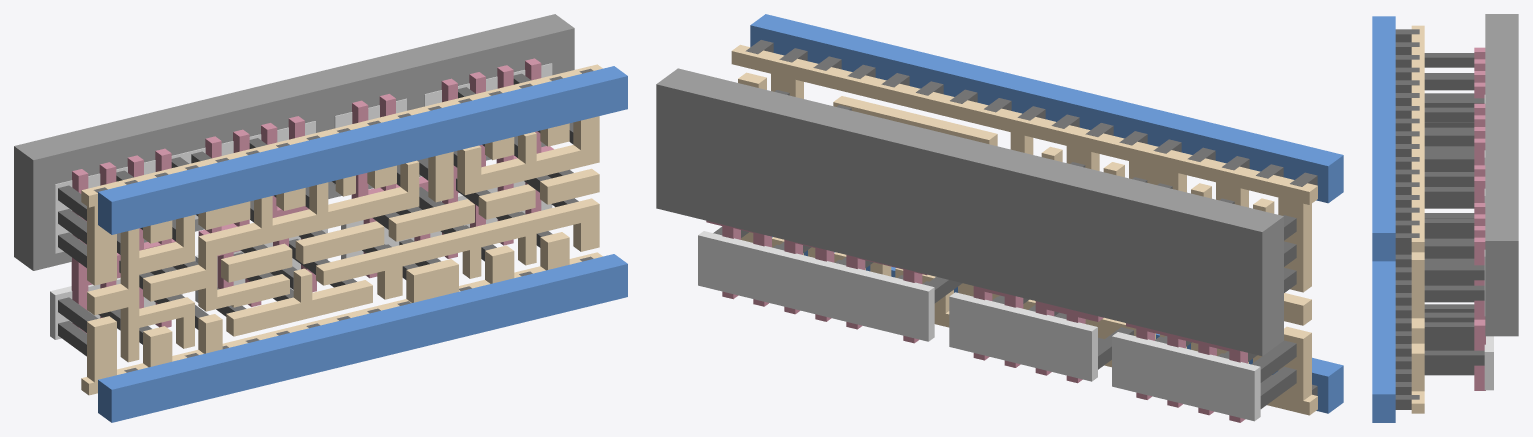
File: sky130_fd_sc_hd__o311a_4.gds.gltf
3 views of the same model, side by side, from view 1: azimuth 30°, elevation 25°; view 2: azimuth 150°, elevation 25°; view 3: azimuth 270°, elevation 25° (orthographic). The views are drawn at different scales.
Parts seen in each view (by area): view 1: sky130_fd_sc_hd__o311a_4_li1, sky130_fd_sc_hd__o311a_4_met1, sky130_fd_sc_hd__o311a_4_nwell, sky130_fd_sc_hd__o311a_4_licon, sky130_fd_sc_hd__o311a_4_poly, sky130_fd_sc_hd__o311a_4_diff, sky130_fd_sc_hd__o311a_4_mcon; view 2: sky130_fd_sc_hd__o311a_4_nwell, sky130_fd_sc_hd__o311a_4_diff, sky130_fd_sc_hd__o311a_4_li1, sky130_fd_sc_hd__o311a_4_met1, sky130_fd_sc_hd__o311a_4_poly, sky130_fd_sc_hd__o311a_4_mcon, sky130_fd_sc_hd__o311a_4_licon; view 3: sky130_fd_sc_hd__o311a_4_licon, sky130_fd_sc_hd__o311a_4_nwell, sky130_fd_sc_hd__o311a_4_met1, sky130_fd_sc_hd__o311a_4_mcon, sky130_fd_sc_hd__o311a_4_li1, sky130_fd_sc_hd__o311a_4_poly, sky130_fd_sc_hd__o311a_4_diff.
Part boxes in pixels (x1,y1,x2,y2): sky130_fd_sc_hd__o311a_4_li1: (81,64,602,395); sky130_fd_sc_hd__o311a_4_met1: (98,66,627,422); sky130_fd_sc_hd__o311a_4_nwell: (14,14,574,270); sky130_fd_sc_hd__o311a_4_licon: (58,73,578,356); sky130_fd_sc_hd__o311a_4_poly: (71,58,553,333); sky130_fd_sc_hd__o311a_4_diff: (50,63,552,339); sky130_fd_sc_hd__o311a_4_mcon: (94,68,593,372); sky130_fd_sc_hd__o311a_4_nwell: (656,68,1283,356); sky130_fd_sc_hd__o311a_4_diff: (698,231,1260,421); sky130_fd_sc_hd__o311a_4_li1: (731,44,1317,415); sky130_fd_sc_hd__o311a_4_met1: (750,14,1343,413); sky130_fd_sc_hd__o311a_4_poly: (706,220,1247,422); sky130_fd_sc_hd__o311a_4_mcon: (745,40,1317,395); sky130_fd_sc_hd__o311a_4_licon: (713,90,1296,408); sky130_fd_sc_hd__o311a_4_licon: (1424,53,1484,375); sky130_fd_sc_hd__o311a_4_nwell: (1485,14,1518,336); sky130_fd_sc_hd__o311a_4_met1: (1372,16,1395,422); sky130_fd_sc_hd__o311a_4_mcon: (1395,29,1419,409); sky130_fd_sc_hd__o311a_4_li1: (1411,25,1424,413); sky130_fd_sc_hd__o311a_4_poly: (1474,47,1485,390); sky130_fd_sc_hd__o311a_4_diff: (1484,95,1493,390).
Size of the model in its own units: 8.2 by 3.2 by 2.24.
